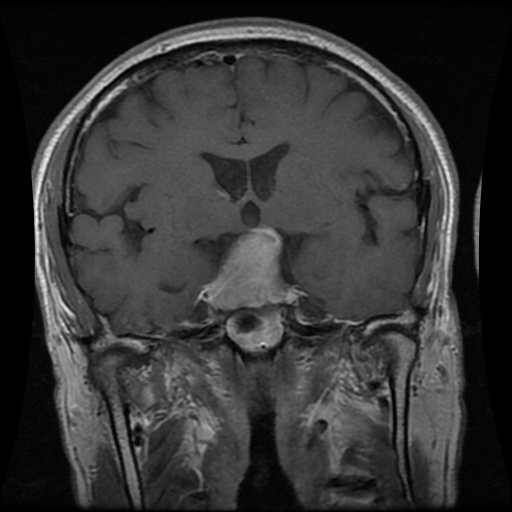pituitary: (199, 226, 304, 309)
